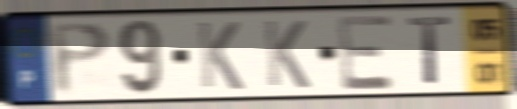9: (117, 17, 169, 98)
E: (334, 12, 398, 93)
K: (194, 19, 246, 93), (261, 18, 313, 92)
P: (46, 19, 115, 99)
T: (405, 14, 455, 88)
